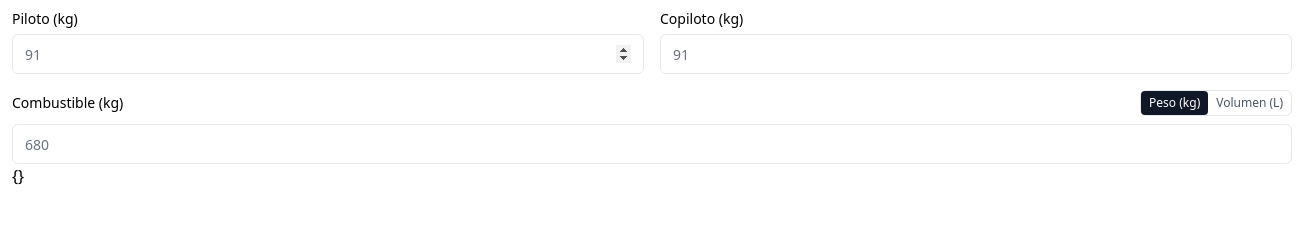
Test: StationForm › fuel by volume › converts litres to lbs in metric mode
This screenshot has width=1304, height=226.
Step 1. Click the button "Volumen (L)" → point(1250, 103), box [1208,91,1291,115]
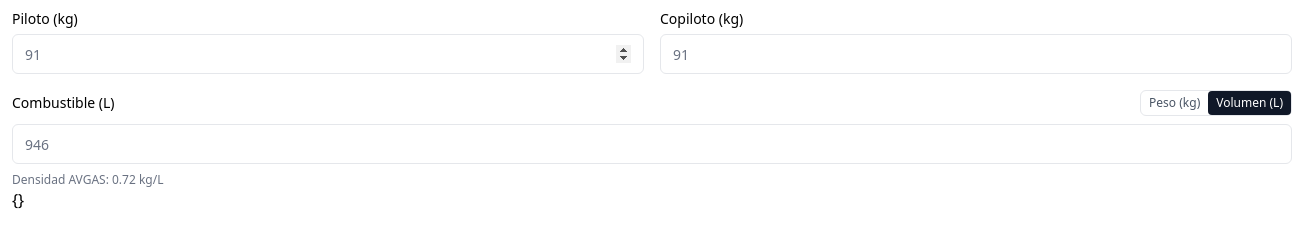
Step 2. Type "100" into the number field labelled "Combustible (L)" → point(652, 144), box [12,124,1292,164]
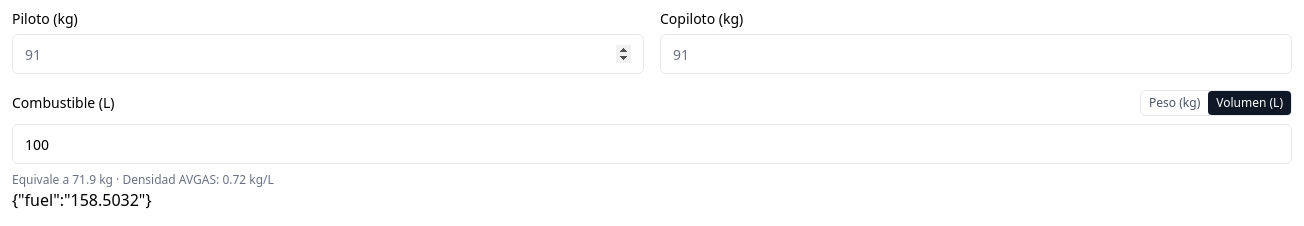
expect the text "Equivale a 71.9 kg · Densidad AVGAS: 0.72 kg/L" is shown: met, box [12,171,274,188]
